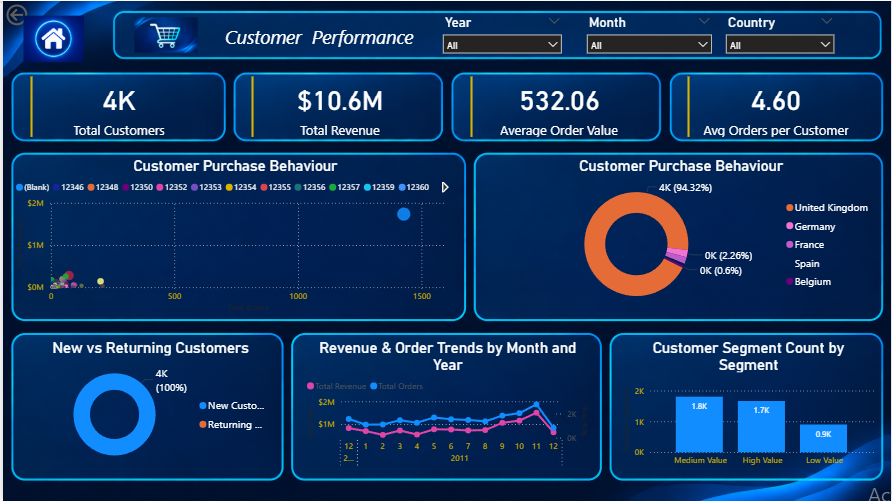

What the dashboard file says about the page in this screenshot:
{"tool":"powerbi","page":{"name":"Page 3","canvas":[1280,720],"ordinal":3},"visuals":[{"type":"image","box":[184.8,15.1,100.8,68.9],"z":0},{"type":"textbox","box":[285.6,26.9,332.6,48.7],"z":1000},{"type":"cardVisual","fields":{"Data":["Online_Retail_Cleaned.Total Customers"]},"box":[35.3,104.1,265.4,97.4],"z":2000},{"type":"cardVisual","fields":{"Data":["Online_Retail_Cleaned.Total Revenue"]},"box":[352.8,104.1,265.4,97.4],"z":3000},{"type":"cardVisual","fields":{"Data":["Online_Retail_Cleaned.Average Order Value"]},"box":[668.6,104.1,265.4,97.4],"z":4000},{"type":"cardVisual","fields":{"Data":["Online_Retail_Cleaned.Average Orders per Customer"]},"box":[981,104.1,265.4,97.4],"z":5000},{"type":"scatterChart","title":"Customer Purchase Behaviour","fields":{"X":["Online_Retail_Cleaned.Total Orders"],"Y":["Online_Retail_Cleaned.Total Revenue"],"Series":["Online_Retail_Cleaned.CustomerID"],"Size":["Online_Retail_Cleaned.Total Quantity Sold"],"Category":["Online_Retail_Cleaned.CustomerID"]},"box":[13.4,225.1,643.4,226.8],"z":6000},{"type":"actionButton","box":[0,0,100,40],"z":7000},{"type":"donutChart","title":"Customer Purchase Behaviour","fields":{"Category":["Online_Retail_Cleaned.Country"],"Y":["Online_Retail_Cleaned.Total Customers"]},"box":[692.1,225.1,567.8,226.8],"z":8000},{"type":"donutChart","title":"New vs Returning Customers","fields":{"Category":["Customer Type.Customer Type"],"Y":["Online_Retail_Cleaned.Customer Type Count"]},"box":[35.3,487.1,356.1,193.2],"z":9000},{"type":"lineChart","title":"Revenue & Order Trends by Month and Year","fields":{"Category":["Online_Retail_Cleaned.Year","Online_Retail_Cleaned.Month"],"Y":["Online_Retail_Cleaned.Total Revenue"],"Y2":["Online_Retail_Cleaned.Total Orders"]},"box":[431.7,487.1,416.6,193.2],"z":10000},{"type":"columnChart","fields":{"Category":["Customer Segments.Segment"],"Y":["Customer Segments.Customer Segment Count"]},"box":[886.9,487.1,372.9,193.2],"z":10001},{"type":"slicer","fields":{"Values":["Online_Retail_Cleaned.Year"]},"box":[623.2,14.9,191.5,75.6],"z":10002},{"type":"slicer","fields":{"Values":["Online_Retail_Cleaned.Month"]},"box":[831.5,14.9,199.9,75.6],"z":10003},{"type":"slicer","fields":{"Values":["Online_Retail_Cleaned.Country"]},"box":[1031.4,14.9,176.4,75.6],"z":10004},{"type":"image","box":[25.2,10.1,97.4,89],"z":10005}]}

Visuals, with their boxes in screenshot pixels (x1, y1, x2, y2), scaled from the page's 1280x720 canvas onto the 892x501 screenshot:
image: bbox=[129, 11, 199, 58]
textbox: bbox=[199, 19, 431, 53]
cardVisual - Online_Retail_Cleaned.Total Customers: bbox=[25, 72, 210, 140]
cardVisual - Online_Retail_Cleaned.Total Revenue: bbox=[246, 72, 431, 140]
cardVisual - Online_Retail_Cleaned.Average Order Value: bbox=[466, 72, 651, 140]
cardVisual - Online_Retail_Cleaned.Average Orders per Customer: bbox=[684, 72, 869, 140]
"Customer Purchase Behaviour" scatterChart: bbox=[9, 157, 458, 314]
actionButton: bbox=[0, 0, 70, 28]
"Customer Purchase Behaviour" donutChart: bbox=[482, 157, 878, 314]
"New vs Returning Customers" donutChart: bbox=[25, 339, 273, 473]
"Revenue & Order Trends by Month and Year" lineChart: bbox=[301, 339, 591, 473]
columnChart - Customer Segments.Segment x Customer Segments.Customer Segment Count: bbox=[618, 339, 878, 473]
slicer - Online_Retail_Cleaned.Year: bbox=[434, 10, 568, 63]
slicer - Online_Retail_Cleaned.Month: bbox=[579, 10, 719, 63]
slicer - Online_Retail_Cleaned.Country: bbox=[719, 10, 842, 63]
image: bbox=[18, 7, 85, 69]
